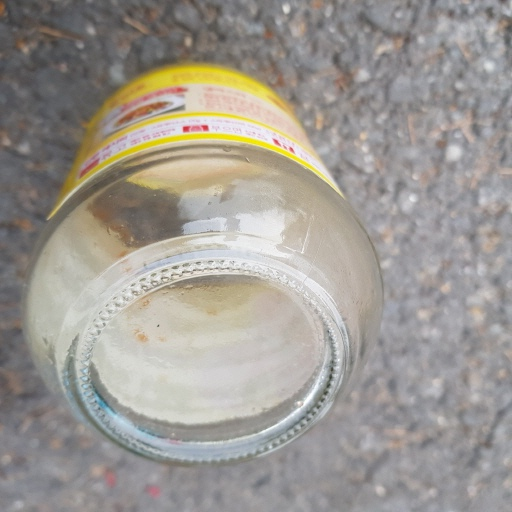Glass_5: (20, 66, 388, 470)
